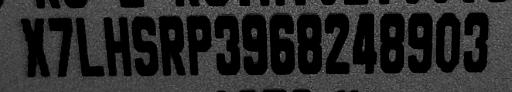letter: (293, 9, 323, 79), (321, 11, 353, 75), (100, 15, 134, 75), (17, 15, 49, 77), (266, 12, 296, 74), (74, 16, 104, 78), (462, 8, 490, 74), (156, 12, 186, 72), (434, 10, 462, 74), (376, 13, 406, 71), (238, 14, 268, 72), (405, 12, 433, 74), (46, 14, 74, 74), (131, 14, 159, 74), (352, 11, 378, 75), (214, 14, 240, 76), (184, 13, 210, 73)
